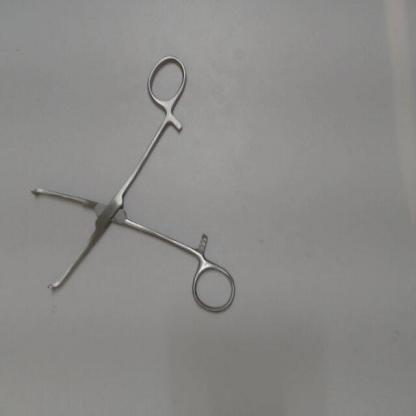Allis Tissue Forceps: (27, 47, 246, 322)
